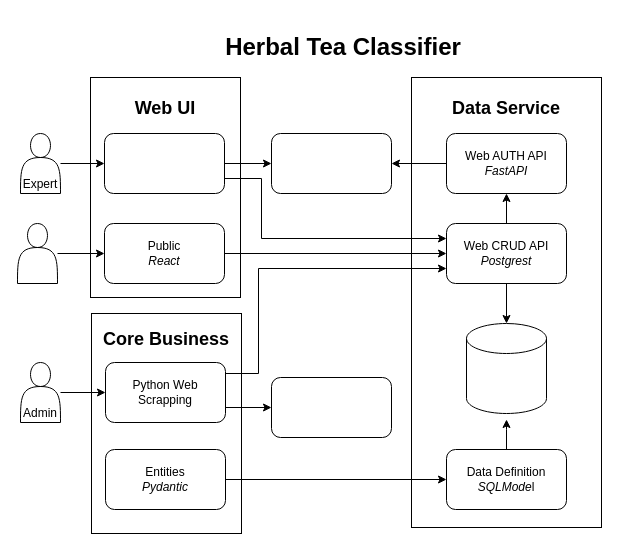
The diagram is 619 pixels wide and 551 high, and some of its shapes have lost their labels. Each missing label, with the centre of its shape:
"Admin React Admin" goes at (x=164, y=163).
"DB Postgres" goes at (x=506, y=368).
"Herbal Tea Data EMA HMPC" goes at (x=331, y=407).
"Magic Link Auth Magic.link" goes at (x=331, y=163).
"Public" goes at (x=37, y=253).
